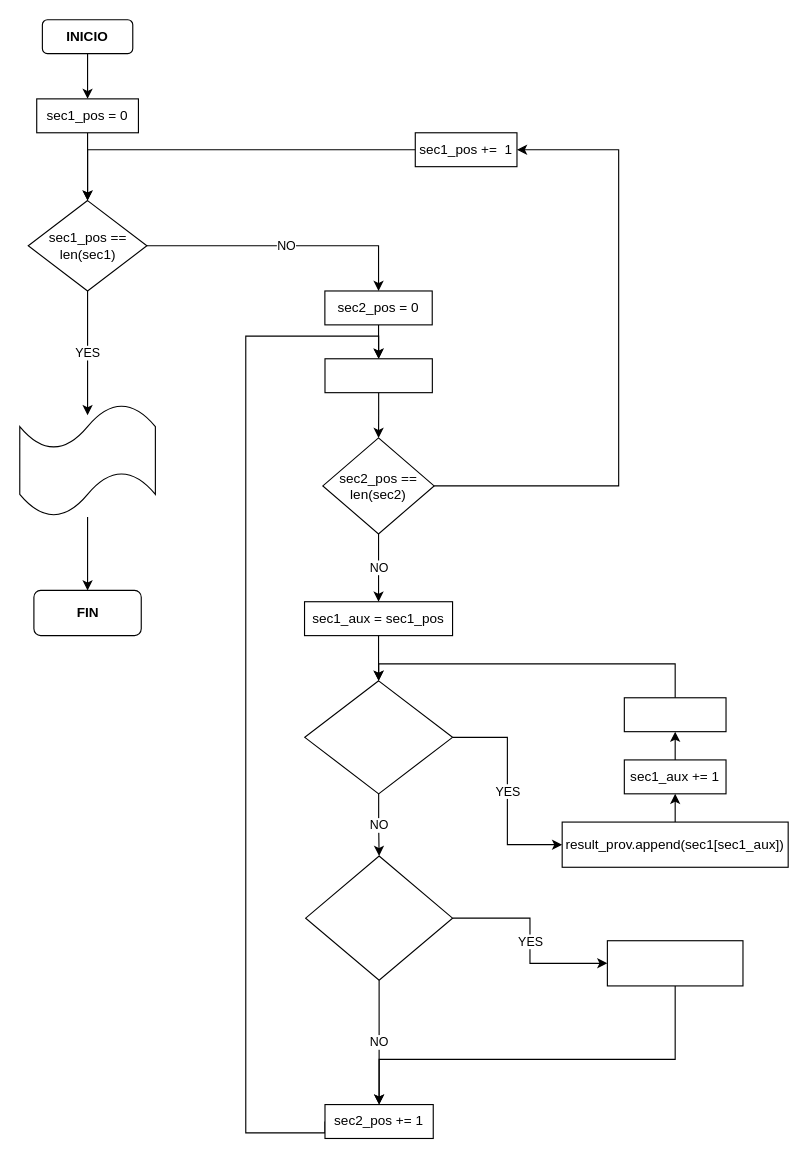
Some shapes in this 808 by 1162 pixel diagram are drawn without their labels. The shapes that lost their labels are listed below. From the top down, each one's centre as x and y in pixels, then its label:
(378,375): result_prov = 0
(87,460): print(fresult)
(674,714): sec2_pos += 0
(378,737): sec1[sec1_aux] == sec2[sec2_pos]
(379,917): len(result_prov >= len(fresult)
(674,963): fresult = result_prov
